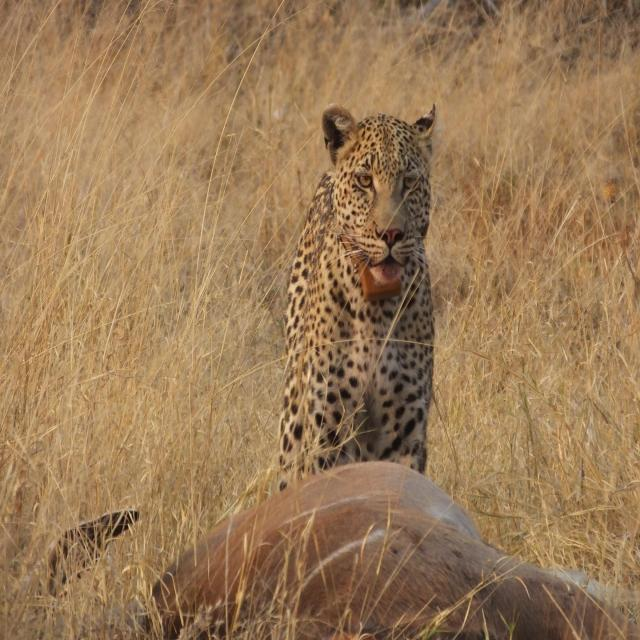Leopard: (275, 100, 442, 502)
